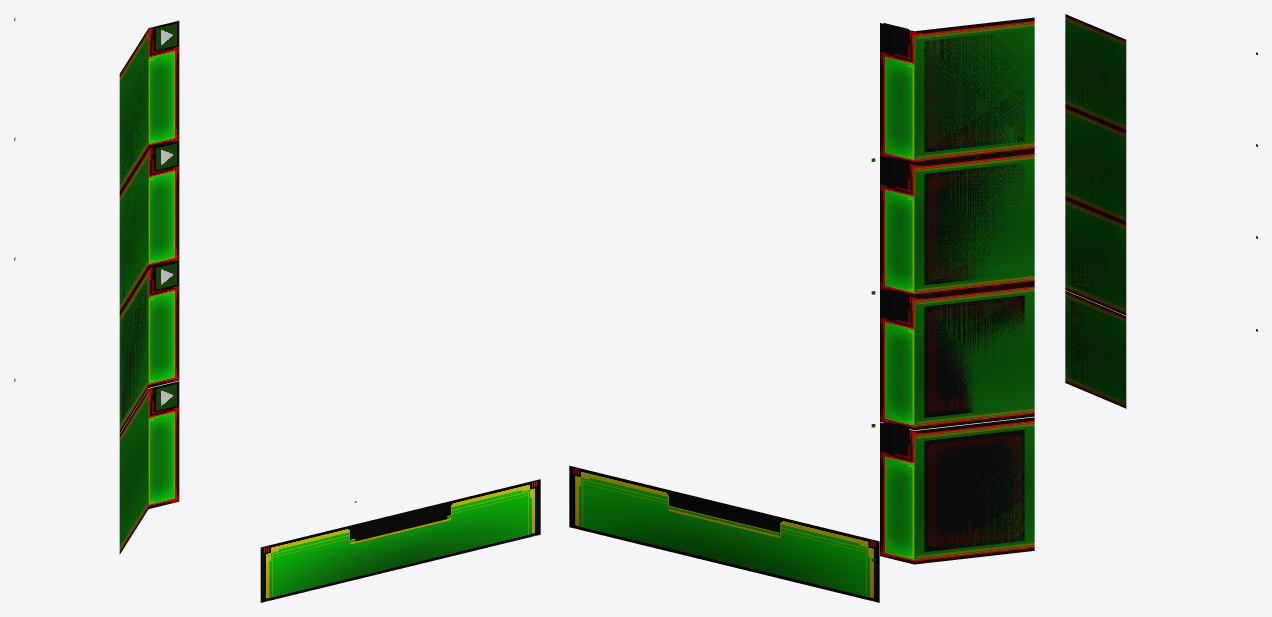
The model's file is DropZoneUI.fbx.
3 views of the same model, side by side, from view 1: azimuth 30°, elevation 25°; view 2: azimuth 150°, elevation 25°; view 3: azimuth 270°, elevation 25° (orthographic). The views are drawn at different scales.
Parts seen in each view (by area): view 1: SpaceBar, UnitPane4, UnitPane1, UnitPane2, UnitPane3, Image, HiLite; view 2: Image (×4), UnitPane1, SpaceBar, UnitPane2, UnitPane3, UnitPane4; view 3: UnitPane4, UnitPane1, UnitPane3, UnitPane2, Image (×2).
Boxes of the visible parts, x1=… form: SpaceBar: x1=260, y1=479, x2=540, y2=602; UnitPane4: x1=14, y1=378, x2=179, y2=554; UnitPane1: x1=14, y1=18, x2=179, y2=193; UnitPane2: x1=14, y1=137, x2=179, y2=313; UnitPane3: x1=14, y1=257, x2=179, y2=433; Image: x1=122, y1=283, x2=146, y2=418; HiLite: x1=355, y1=504, x2=447, y2=541; Image (×4): x1=924, y1=30, x2=1024, y2=552; UnitPane1: x1=871, y1=17, x2=1034, y2=164; SpaceBar: x1=569, y1=465, x2=879, y2=602; UnitPane2: x1=871, y1=150, x2=1034, y2=297; UnitPane3: x1=871, y1=284, x2=1034, y2=430; UnitPane4: x1=871, y1=417, x2=1034, y2=564; UnitPane4: x1=1065, y1=290, x2=1257, y2=408; UnitPane1: x1=1065, y1=14, x2=1257, y2=131; UnitPane3: x1=1065, y1=198, x2=1257, y2=315; UnitPane2: x1=1065, y1=106, x2=1257, y2=223; Image (×2): x1=1070, y1=208, x2=1108, y2=384.
Bounding box in the file's own units: 75.05 × 97.09 × 39.29.
Materials: 4 (4 with a texture image).
